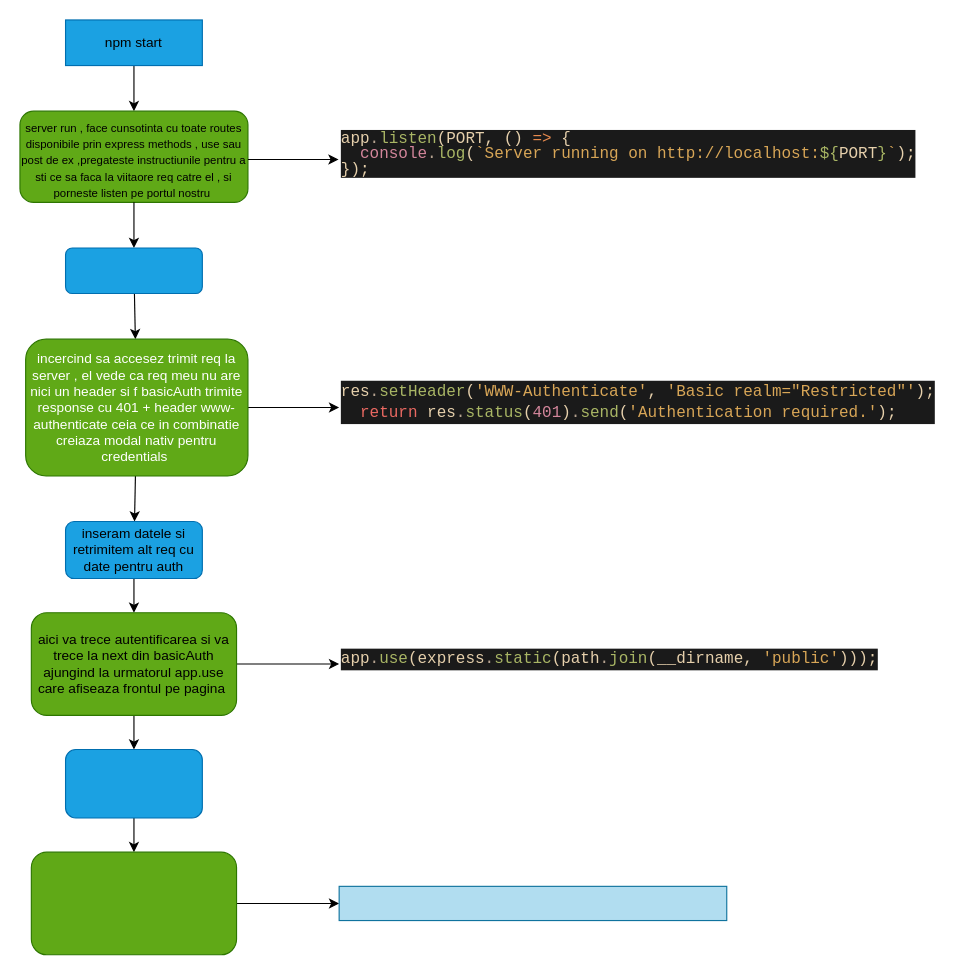
This 955x975 diagram has some shape labels left out. Each missing label, with the centre of its shape:
"fetch('/copy-template', { method: 'POST', ... })" belongs at (532,903).
"inseram datele in formular si apasam send" belongs at (133,783).
"localhost:PORT" belongs at (133,270).
